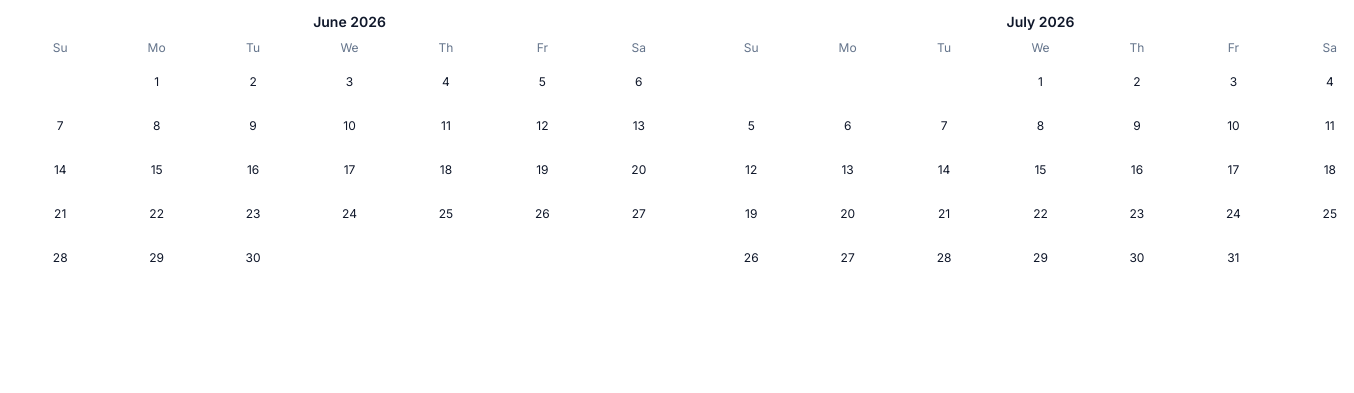
it: InlineCalendarCard — end date selection (AC3) › valid end date → Nights: N counter + Confirm chip
Note: Select start: June 15
Click the cell named "Monday, June 15, 2026".
click(157, 170)  # box [108,148,205,192]
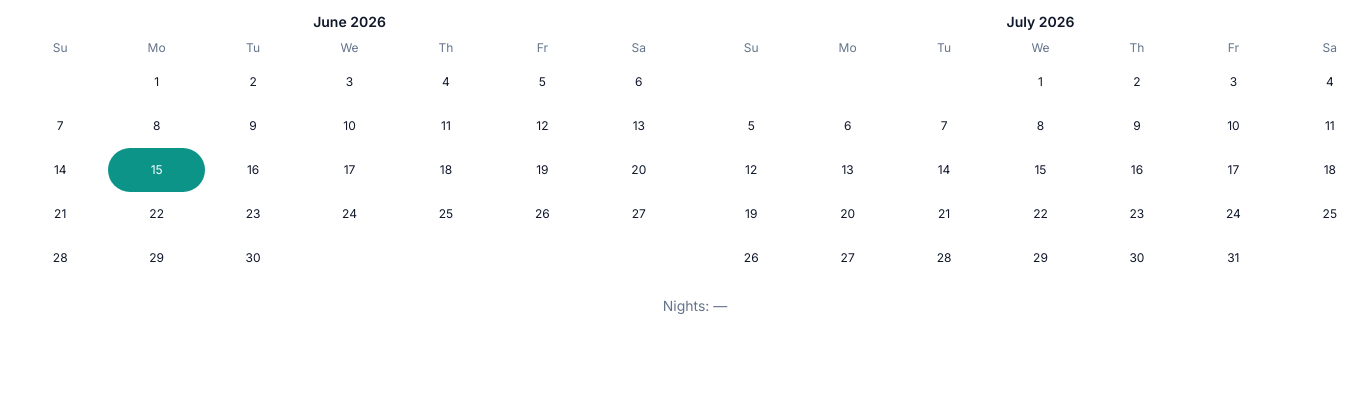
Note: Select end: June 22
Click the cell named "Monday, June 22, 2026".
click(157, 214)  # box [108,192,205,236]
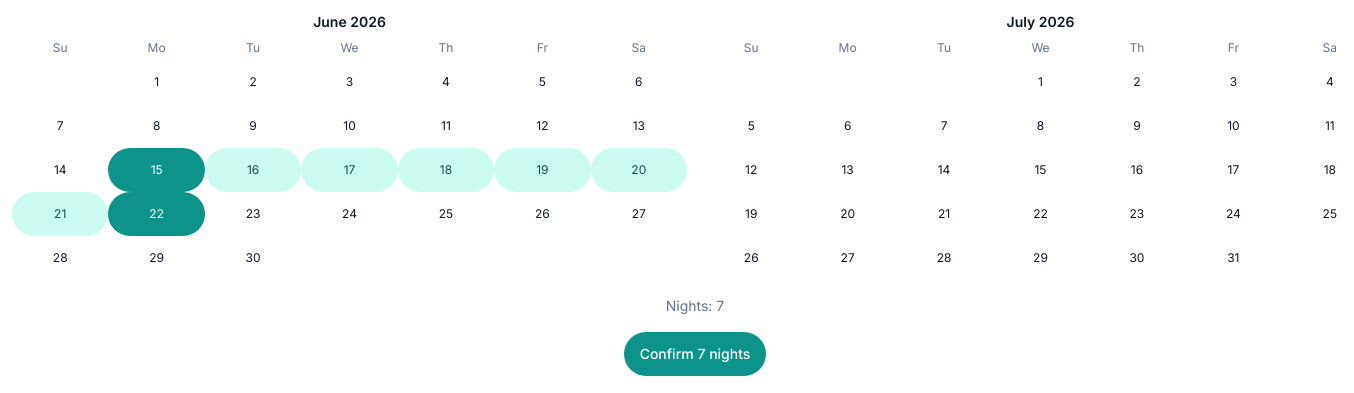
Now the text "Nights: 7" is shown, box [666,297,724,314]
Now the button "Confirm 7 nights" is shown, box [624,332,766,376]
